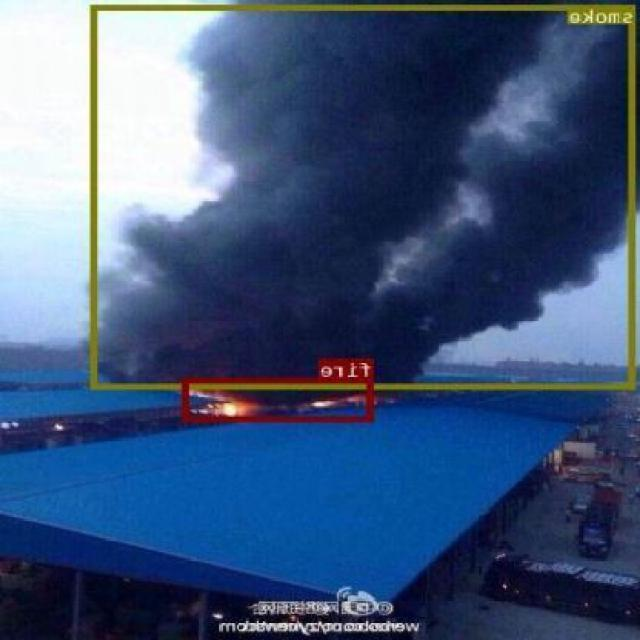Fire: (178, 390, 364, 410)
Smoke: (75, 0, 640, 398)
